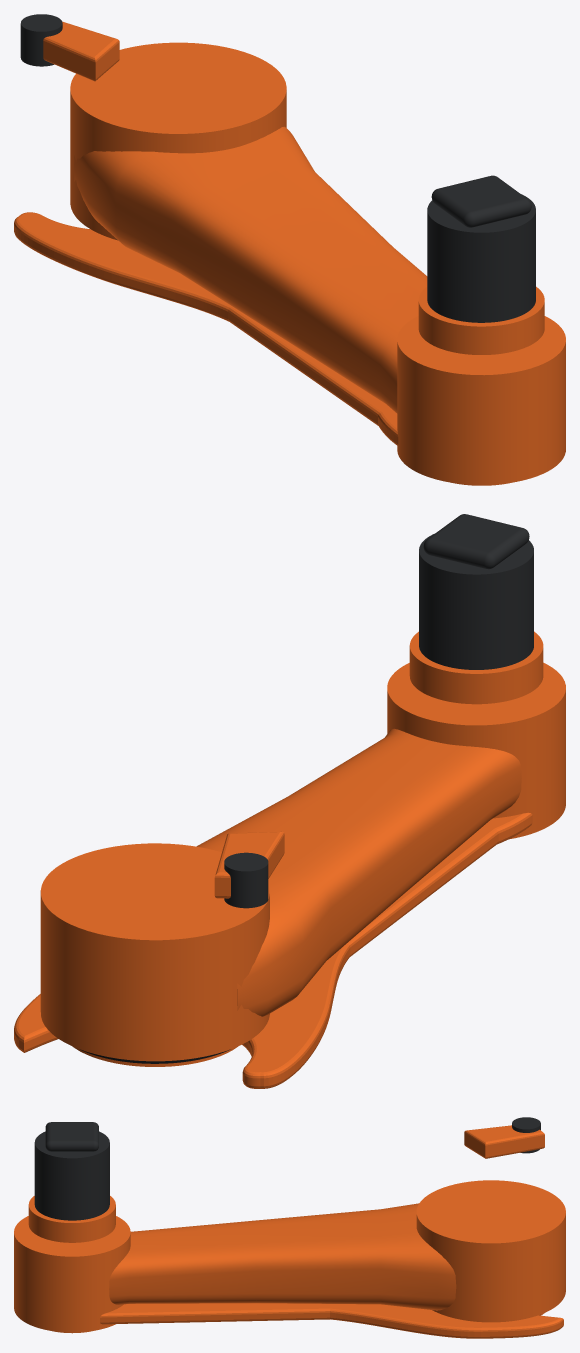
The picture shows the model from 3 angles, top to bottom: view 1: azimuth 30°, elevation 25°; view 2: azimuth 150°, elevation 25°; view 3: azimuth 270°, elevation 25°; orthographic projection. The views are drawn at different scales.
Parts seen in each view (by area): view 1: link_arm_casting, a3_bearing, a2_rotating_hub, continuous_arm_face_and_open_crescent, a3_drive_body, a3_drive_adapter, a3_drive_rear_cover, balancer_moving_clevis, balancer_moving_pin; view 2: a2_rotating_hub, link_arm_casting, a3_bearing, a3_drive_body, continuous_arm_face_and_open_crescent, a3_drive_adapter, a3_drive_rear_cover, balancer_moving_pin, balancer_moving_clevis; view 3: link_arm_casting, a2_rotating_hub, a3_bearing, continuous_arm_face_and_open_crescent, a3_drive_body, a3_drive_adapter, balancer_moving_clevis, a3_drive_rear_cover, balancer_moving_pin.
Part boxes in pixels (x1,y1,x2,y2): link_arm_casting: (74, 126, 427, 413); a3_bearing: (397, 316, 565, 484); a2_rotating_hub: (70, 42, 286, 240); continuous_arm_face_and_open_crescent: (14, 212, 398, 445); a3_drive_body: (427, 194, 535, 322); a3_drive_adapter: (418, 286, 544, 354); a3_drive_rear_cover: (431, 175, 531, 227); balancer_moving_clevis: (43, 21, 119, 81); balancer_moving_pin: (20, 14, 62, 66); a2_rotating_hub: (40, 843, 269, 1061); link_arm_casting: (196, 728, 521, 1016); a3_bearing: (387, 662, 565, 839); a3_drive_body: (419, 534, 533, 669); continuous_arm_face_and_open_crescent: (14, 812, 532, 1088); a3_drive_adapter: (409, 631, 543, 704); a3_drive_rear_cover: (423, 514, 529, 569); balancer_moving_pin: (224, 852, 268, 908); balancer_moving_clevis: (214, 831, 284, 898); link_arm_casting: (109, 1203, 456, 1310); a2_rotating_hub: (416, 1180, 565, 1322); a3_bearing: (14, 1216, 130, 1332); continuous_arm_face_and_open_crescent: (100, 1303, 563, 1338); a3_drive_body: (34, 1131, 109, 1220); a3_drive_adapter: (28, 1196, 115, 1242); balancer_moving_clevis: (464, 1125, 544, 1158); a3_drive_rear_cover: (45, 1122, 98, 1151); balancer_moving_pin: (512, 1117, 540, 1153).
Size of the model in its own units: 0.5907 by 0.5985 by 1.65.
